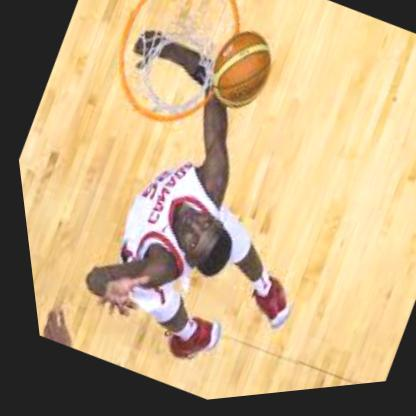basketball: (191, 20, 288, 124)
rim: (83, 0, 270, 154)
